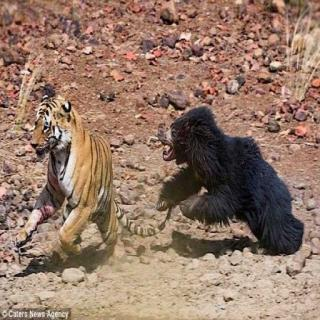Tiger: (10, 78, 124, 286)
